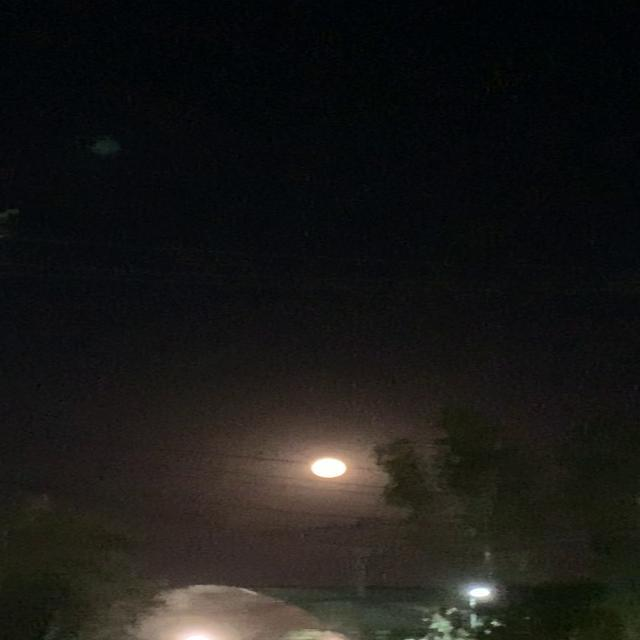moon: (311, 457, 364, 482)
